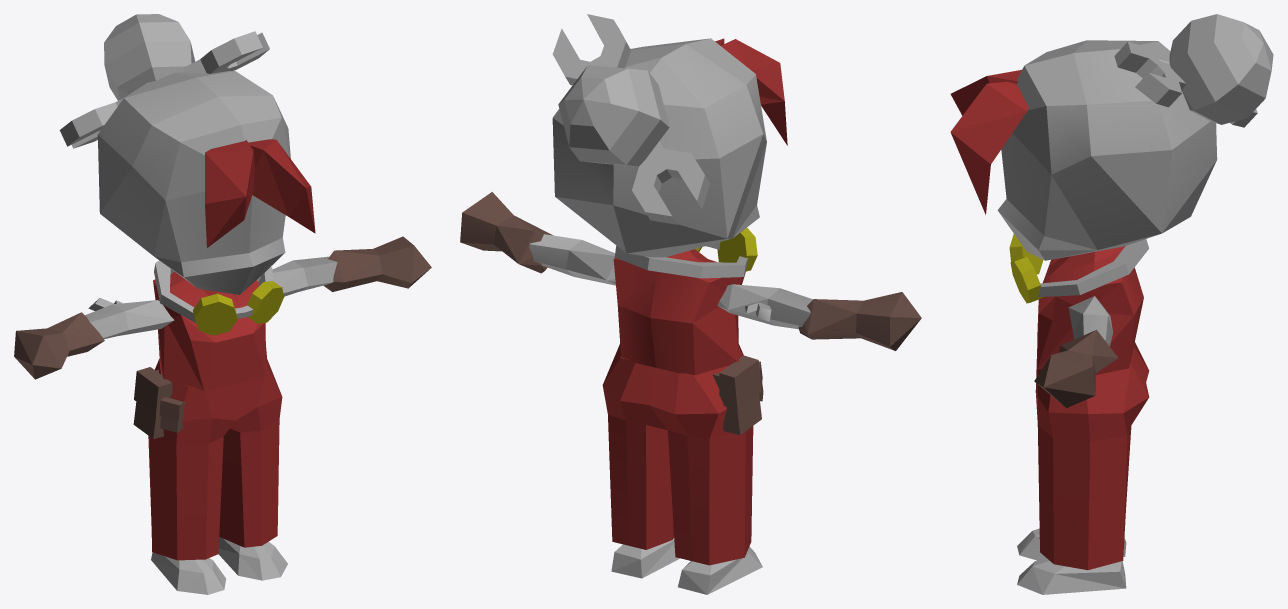
The model's file is Rose.fbx.
3 renders of one model, left to right at view 1: azimuth 30°, elevation 25°; view 2: azimuth 150°, elevation 25°; view 3: azimuth 270°, elevation 25°, orthographic. The views are drawn at different scales.
Visible parts, largest first — view 1: head1, shorts, torso1, polySurface21, BUn, polySurface10, polySurface22, polySurface1 (×2), Goggles, polySurface9, Wrench, pcket (+1 smaller); view 2: head1, shorts, torso1, BUn, polySurface21, Wrench, polySurface22, polySurface1 (×2), Goggles, pcket, polySurface10; view 3: head1, shorts, BUn, torso1, polySurface9, polySurface21, Goggles, polySurface1 (×2), Wrench, polySurface22, polySurface10.
Part boxes in pixels (x1,y1,x2,y2): head1: (97, 71, 290, 294); shorts: (148, 359, 282, 560); torso1: (153, 271, 266, 391); polySurface21: (14, 236, 431, 379); BUn: (104, 14, 195, 100); polySurface10: (205, 140, 254, 247); polySurface22: (85, 256, 337, 339); polySurface1 (×2): (151, 537, 287, 594); Goggles: (154, 260, 284, 335); polySurface9: (248, 139, 315, 233); Wrench: (59, 31, 269, 148); pcket: (133, 367, 172, 438); head1: (552, 38, 766, 257); shorts: (602, 343, 753, 565); torso1: (613, 249, 745, 375); BUn: (558, 65, 669, 166); polySurface21: (460, 192, 921, 350); Wrench: (552, 14, 709, 224); polySurface22: (529, 234, 812, 329); polySurface1 (×2): (611, 538, 762, 594); Goggles: (614, 228, 757, 278); pcket: (712, 355, 761, 434); polySurface10: (721, 39, 787, 145); head1: (997, 40, 1217, 260); shorts: (1035, 342, 1149, 570); BUn: (1169, 14, 1273, 124); torso1: (1037, 246, 1143, 374); polySurface9: (950, 81, 1028, 214); polySurface21: (1034, 330, 1118, 407); Goggles: (1009, 233, 1148, 303); polySurface1 (×2): (1017, 528, 1126, 594); Wrench: (1114, 41, 1257, 127); polySurface22: (1068, 296, 1112, 346); polySurface10: (950, 70, 1021, 115).
Size of the model in its own units: 11.68 by 14.01 by 7.51.
